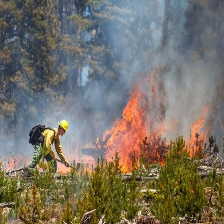fire: (54, 62, 173, 176), (180, 104, 215, 162), (1, 148, 30, 175)
smoke: (93, 1, 222, 115)
